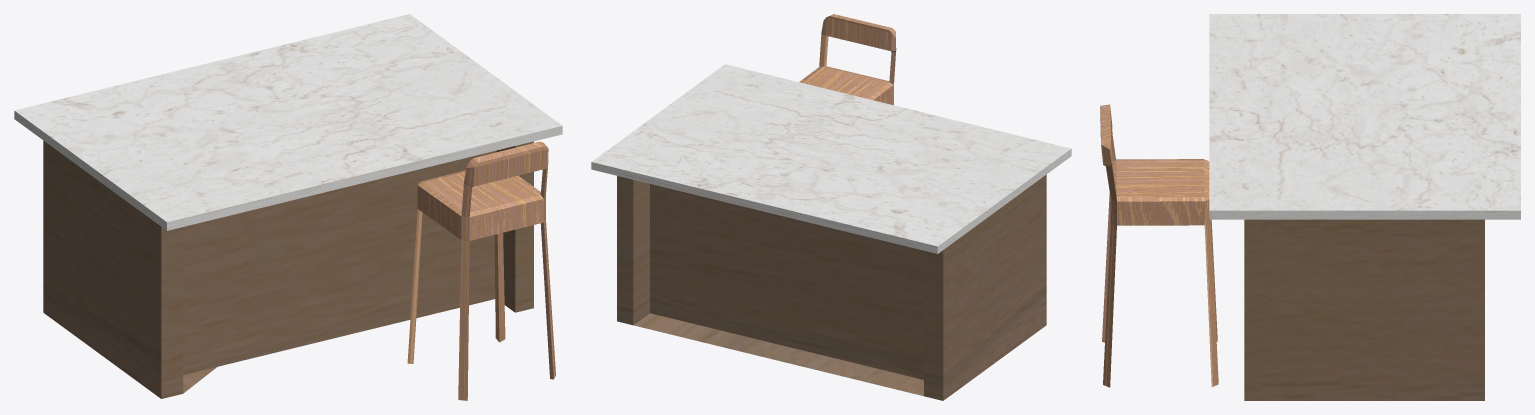
File: Isla.fbx
The picture shows the model from 3 angles, left to right: view 1: azimuth 30°, elevation 25°; view 2: azimuth 150°, elevation 25°; view 3: azimuth 270°, elevation 25°; orthographic projection. The views are drawn at different scales.
Parts seen in each view (by area): view 1: Cube, Cube.001, Cube.002; view 2: Cube, Cube.001, Cube.002; view 3: Cube.001, Cube, Cube.002.
Boxes of the visible parts, left/top/right/bottom form: Cube: left=43, top=140, right=533, bottom=398; Cube.001: left=14, top=14, right=562, bottom=230; Cube.002: left=407, top=141, right=555, bottom=400; Cube: left=617, top=174, right=1046, bottom=400; Cube.001: left=591, top=64, right=1071, bottom=253; Cube.002: left=799, top=14, right=896, bottom=105; Cube.001: left=1209, top=14, right=1520, bottom=219; Cube: left=1244, top=219, right=1484, bottom=400; Cube.002: left=1100, top=104, right=1218, bottom=387.
Bounding box in the file's own units: 228 × 132 × 206.
